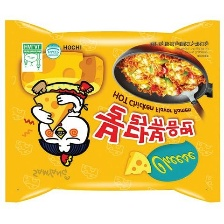snack: (0, 13, 224, 208)
